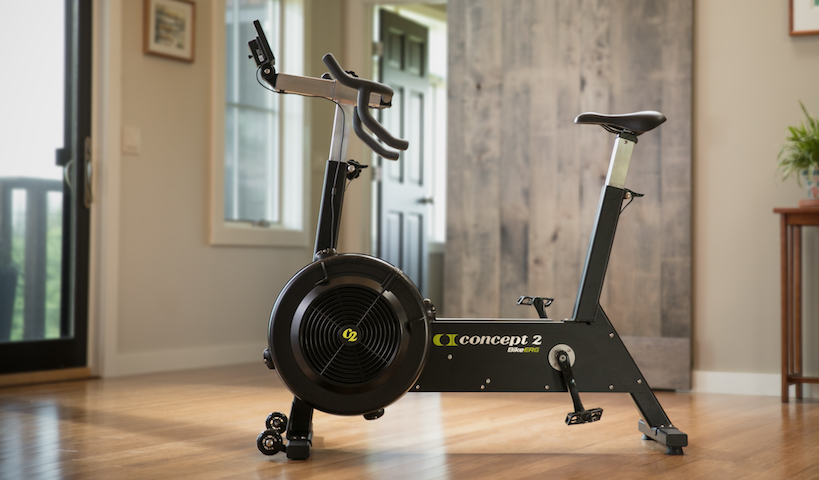gym_bike: (223, 26, 691, 461)
